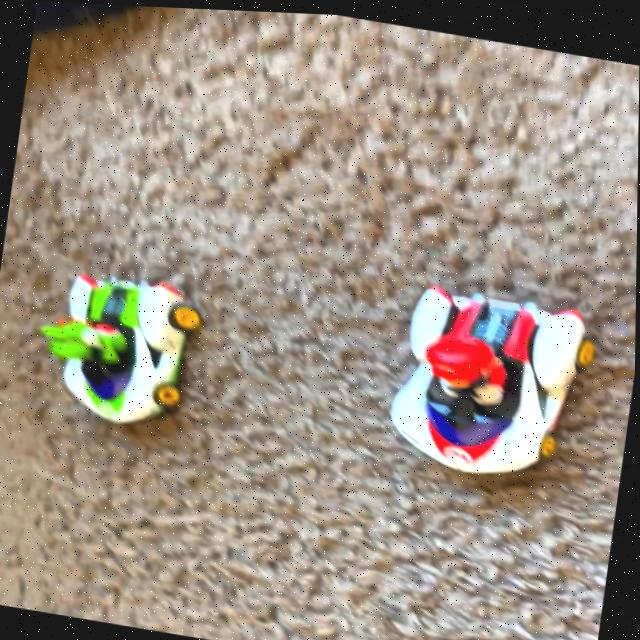mario: (359, 250, 611, 503)
yoshi: (8, 235, 225, 454)
